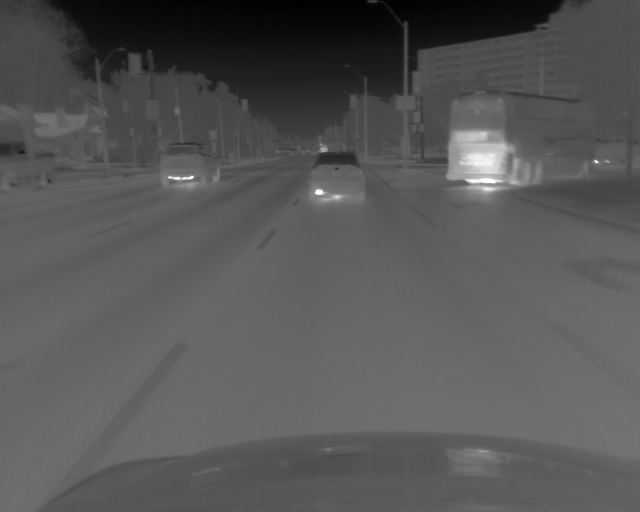car: (443, 91, 595, 185), (1, 140, 60, 195), (157, 142, 222, 190), (307, 152, 365, 203), (591, 135, 632, 164)
